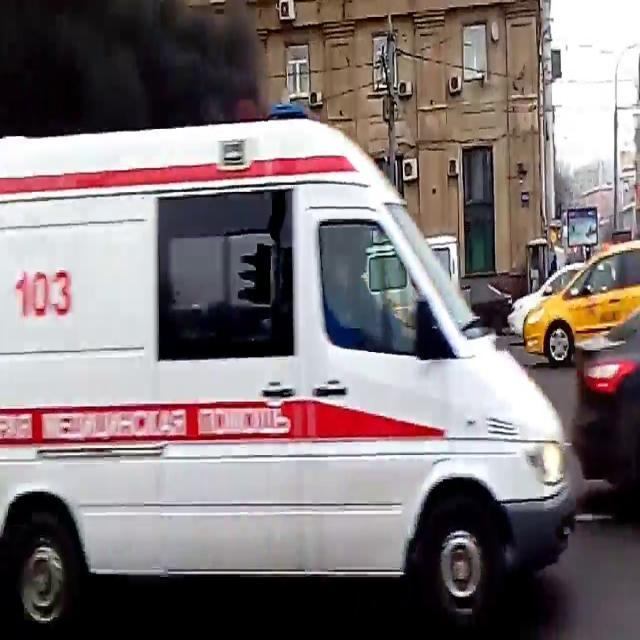Smoke: (0, 0, 273, 134)
